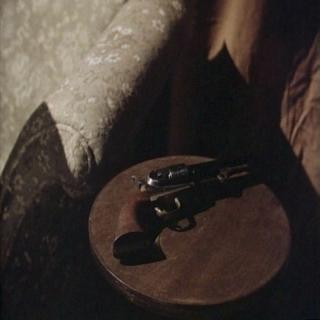gun: (109, 145, 279, 266)
